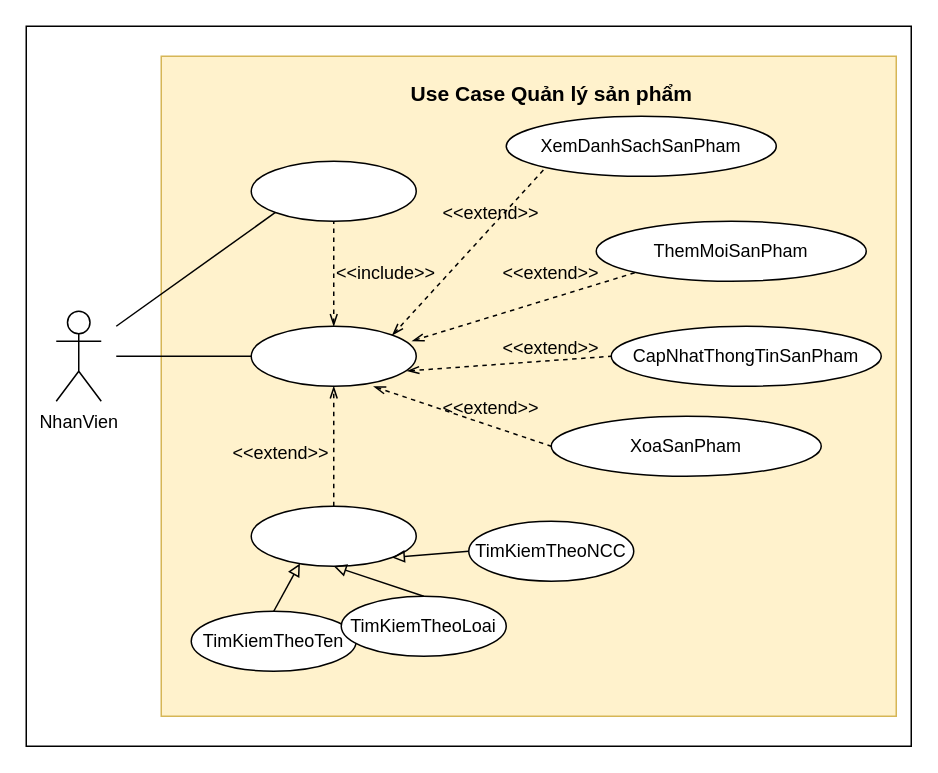
Image size: 938x773. Some labels were removed from this diagram. Here are the shapes that lost their labels. From the top down, the centre of each, then its label:
the point at 333,190: DangNhap
the point at 333,355: QuanLySanPham
the point at 333,535: TimKiem
